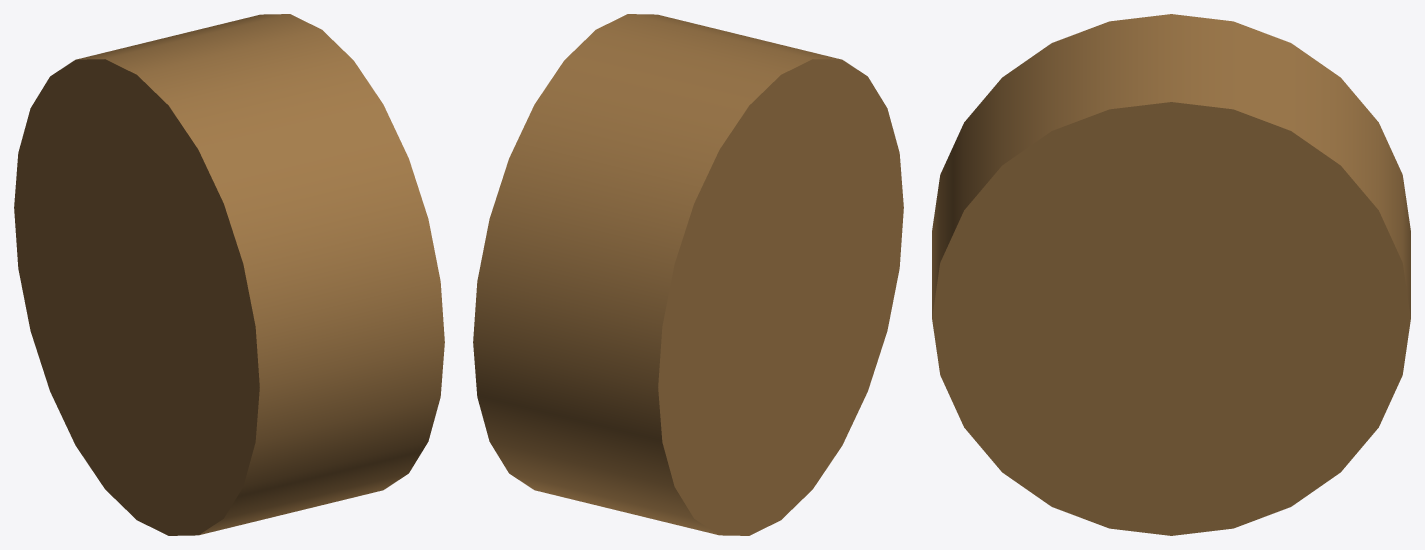
Rendered from original-5.obj.
3 renders of one model, left to right at view 1: azimuth 30°, elevation 25°; view 2: azimuth 150°, elevation 25°; view 3: azimuth 270°, elevation 25°, orthographic. The views are drawn at different scales.
Parts seen in each view (by area): view 1: Group6/mesh16/mesh16-geometry#mesh16-geometry; view 2: Group6/mesh16/mesh16-geometry#mesh16-geometry; view 3: Group6/mesh16/mesh16-geometry#mesh16-geometry.
Boxes of the visible parts, bbox=[...] form: Group6/mesh16/mesh16-geometry#mesh16-geometry: bbox=[14, 14, 444, 535]; Group6/mesh16/mesh16-geometry#mesh16-geometry: bbox=[473, 14, 903, 535]; Group6/mesh16/mesh16-geometry#mesh16-geometry: bbox=[932, 14, 1410, 535].
Size of the model in its own units: 0.101 by 0.2323 by 0.2323.
